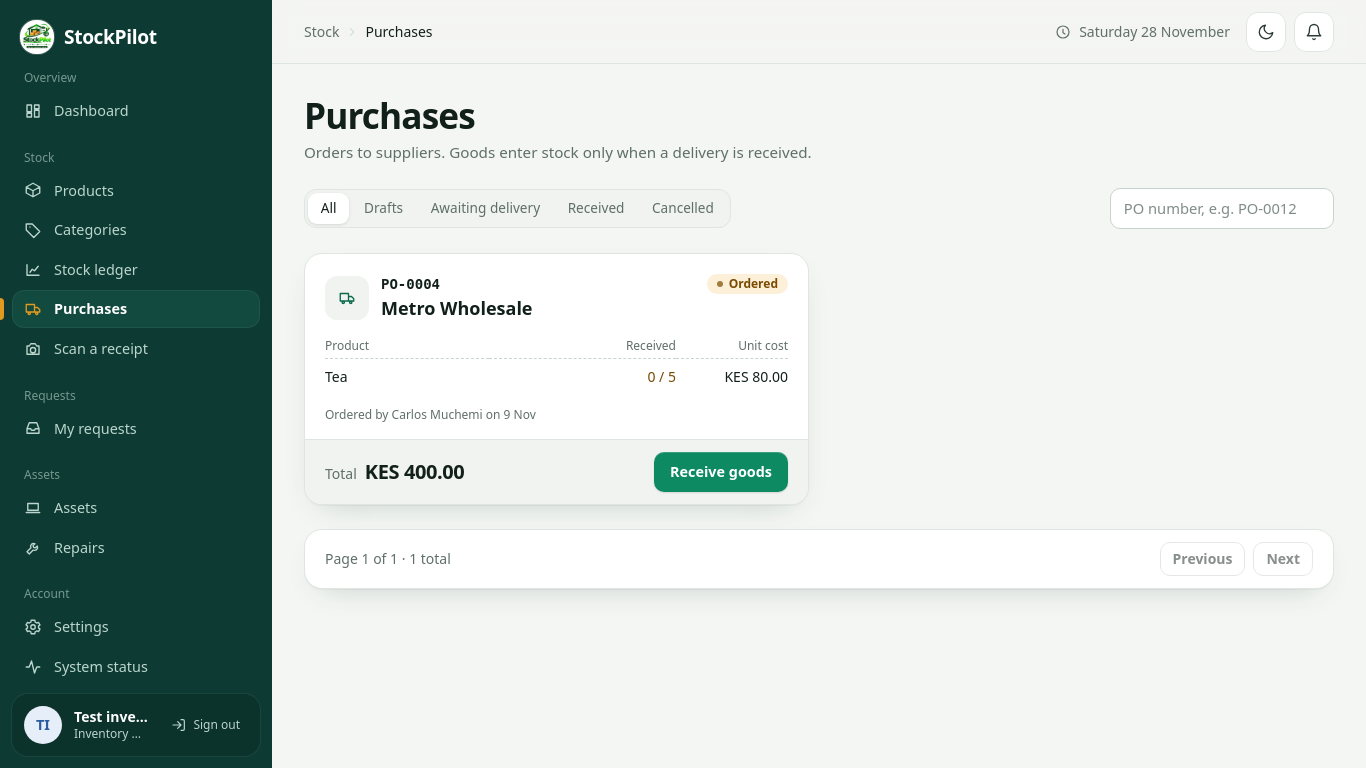
Scenario: purchases › let Inventory receive part of an order, but not place or cancel one
This screenshot has width=1366, height=768.
Click the button with aria-label "Receive PO-0004": (721, 472) left=654, top=452, right=788, bottom=492
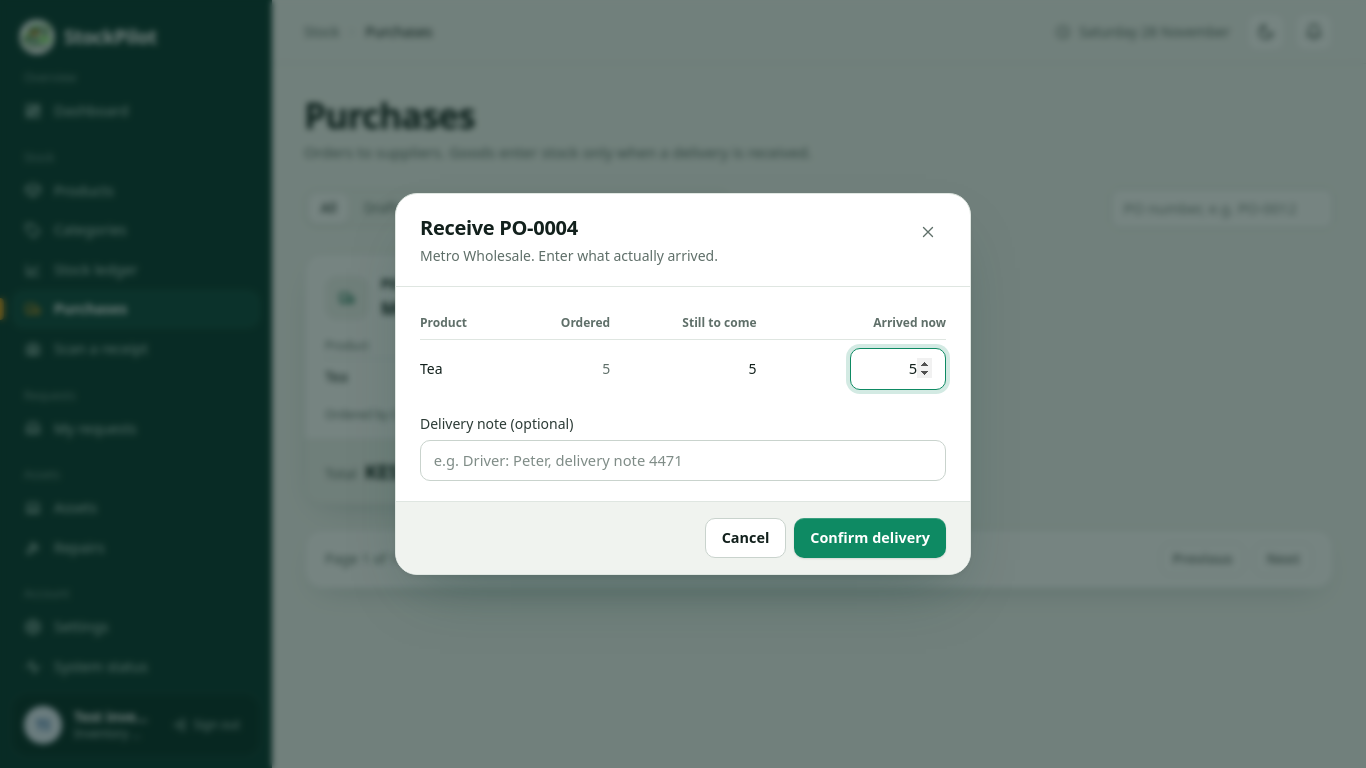
Result: the number field named "Tea arrived" holds "5"
Replace the text in the number field named "Tea arrived" with "9": (898, 369) left=850, top=348, right=946, bottom=390
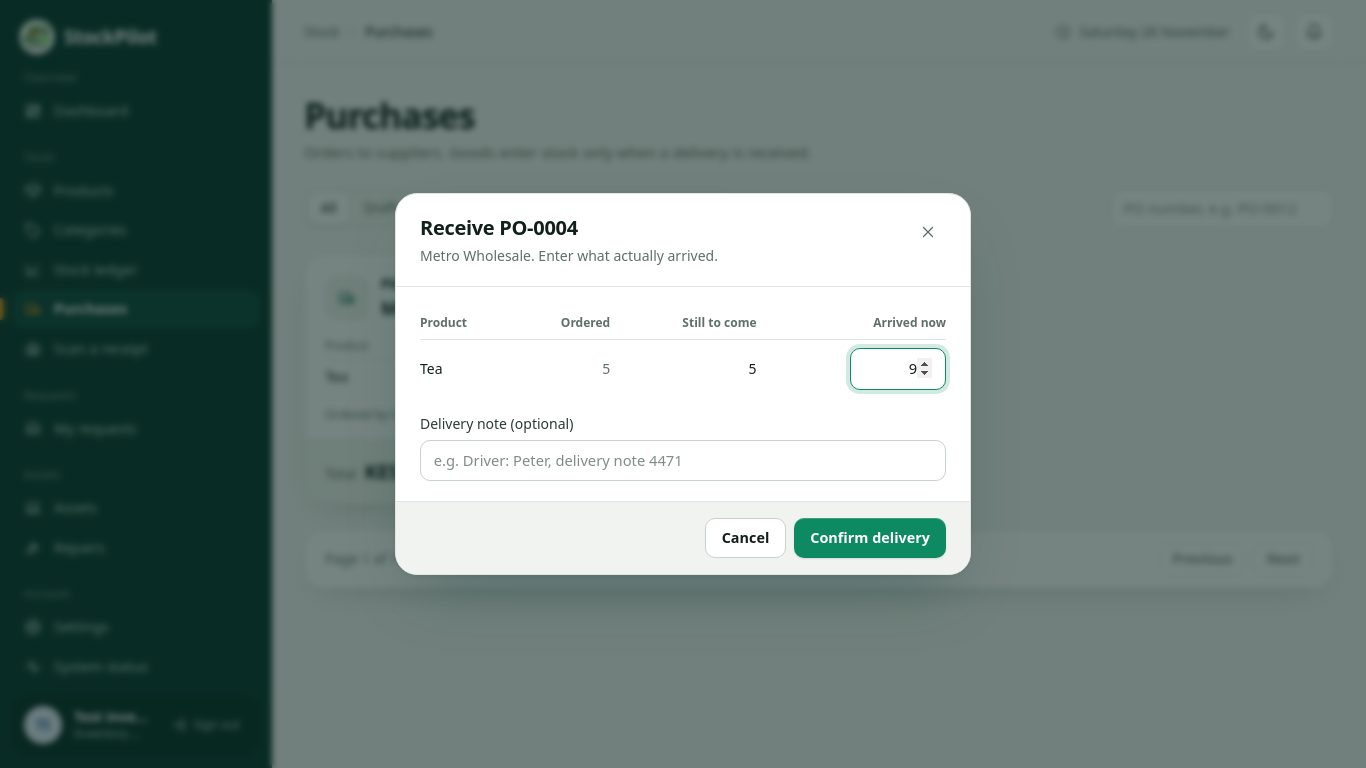
Click the button "Confirm delivery": (870, 538) left=794, top=518, right=946, bottom=558
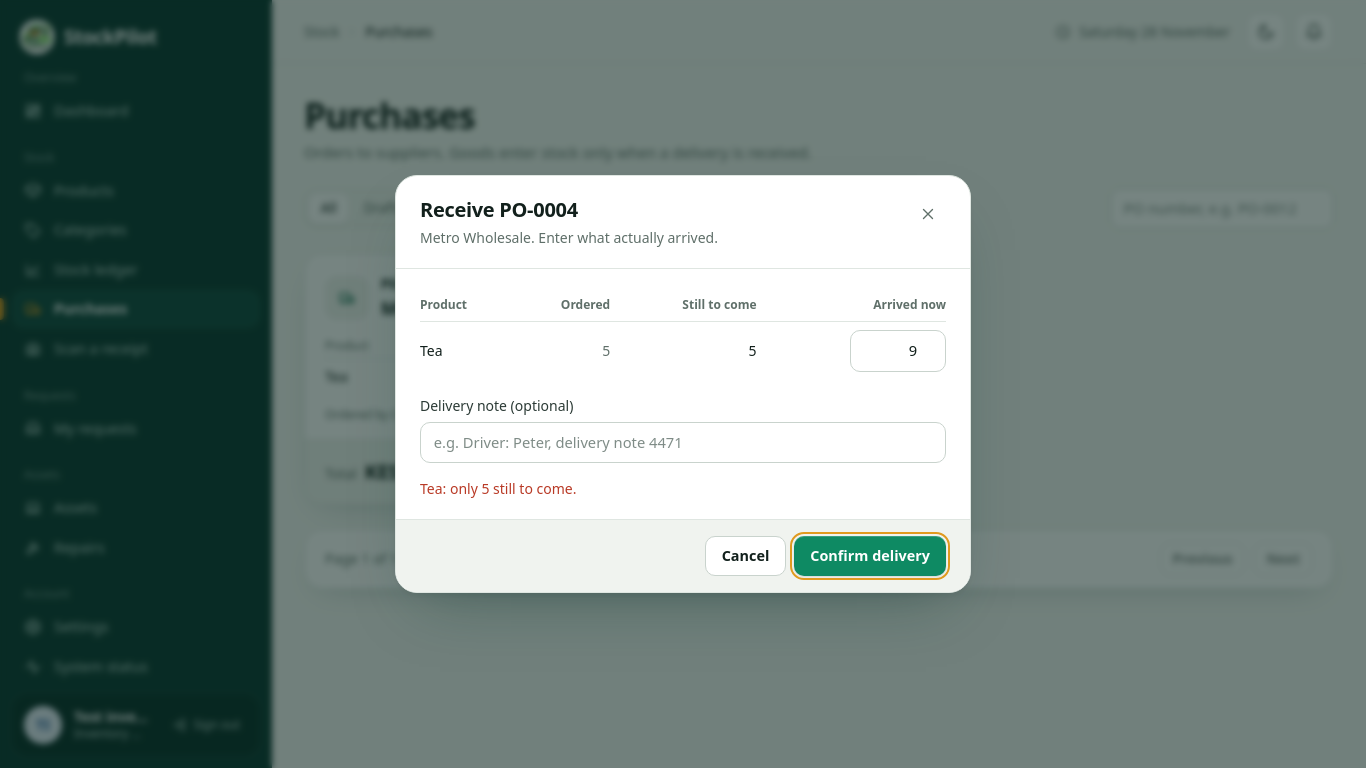
Result: the message shows "only 5 still to come" at left=420, top=479, right=576, bottom=498
Replace the text in the number field named "Tea arrived" with "3": (898, 351) left=850, top=330, right=946, bottom=372
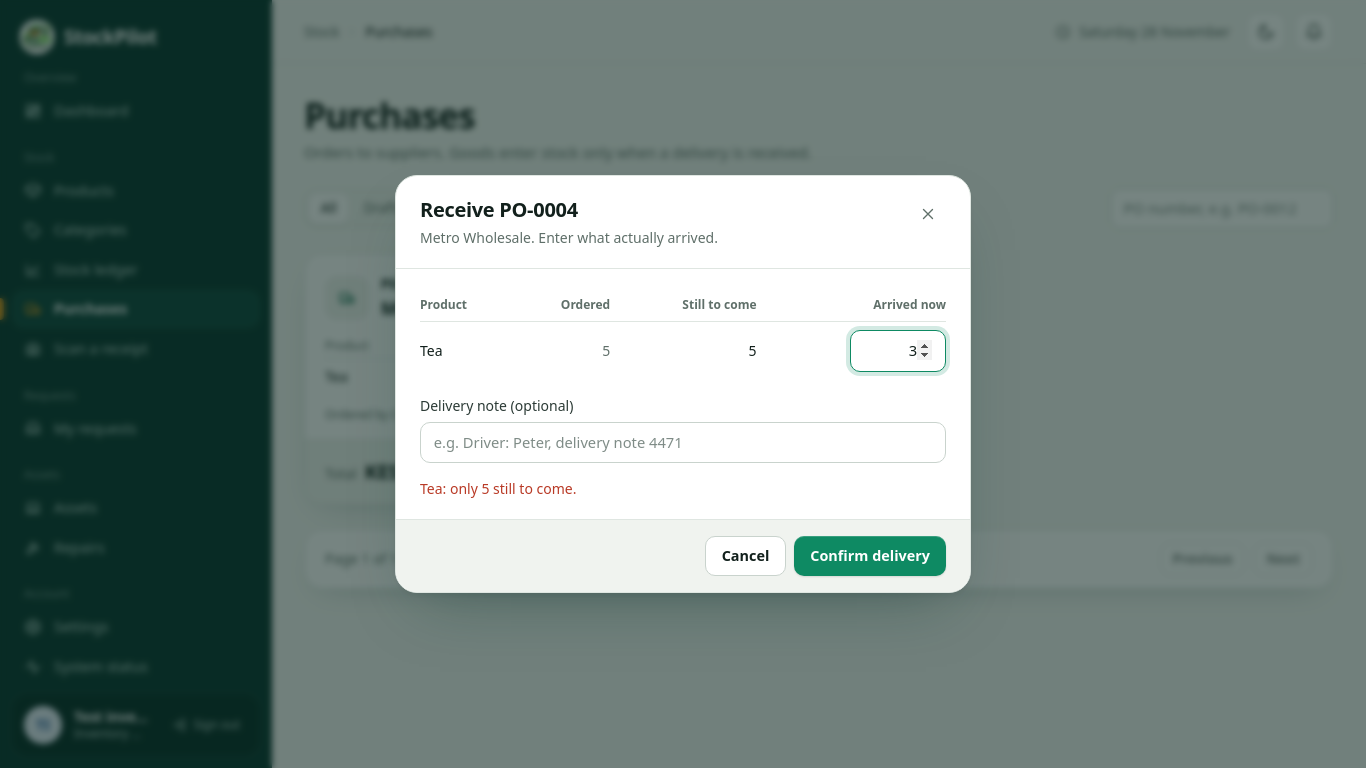
Click the button "Confirm delivery": (870, 556) left=794, top=536, right=946, bottom=576
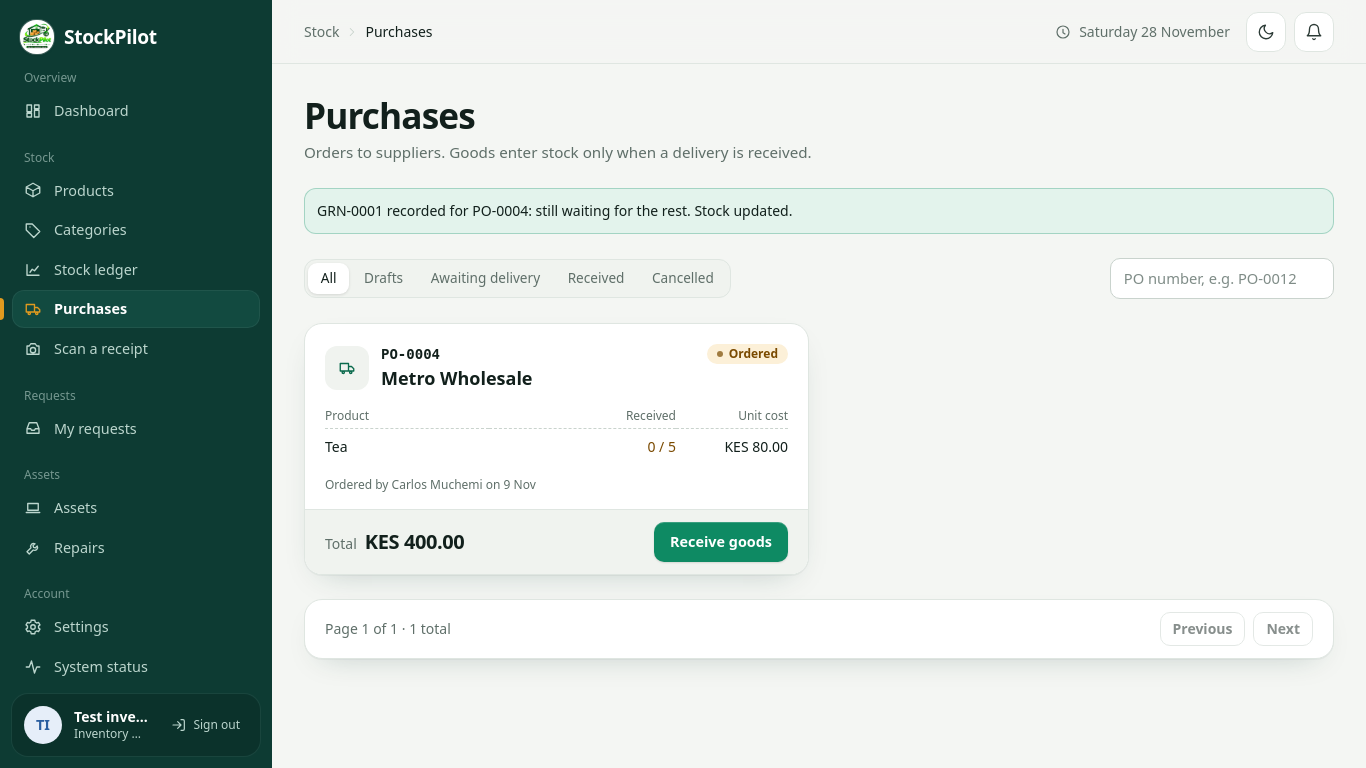
Result: the text "GRN-0001 recorded for PO-0004: still waiting for the rest. Stock updated." is shown at left=304, top=188, right=1334, bottom=234
